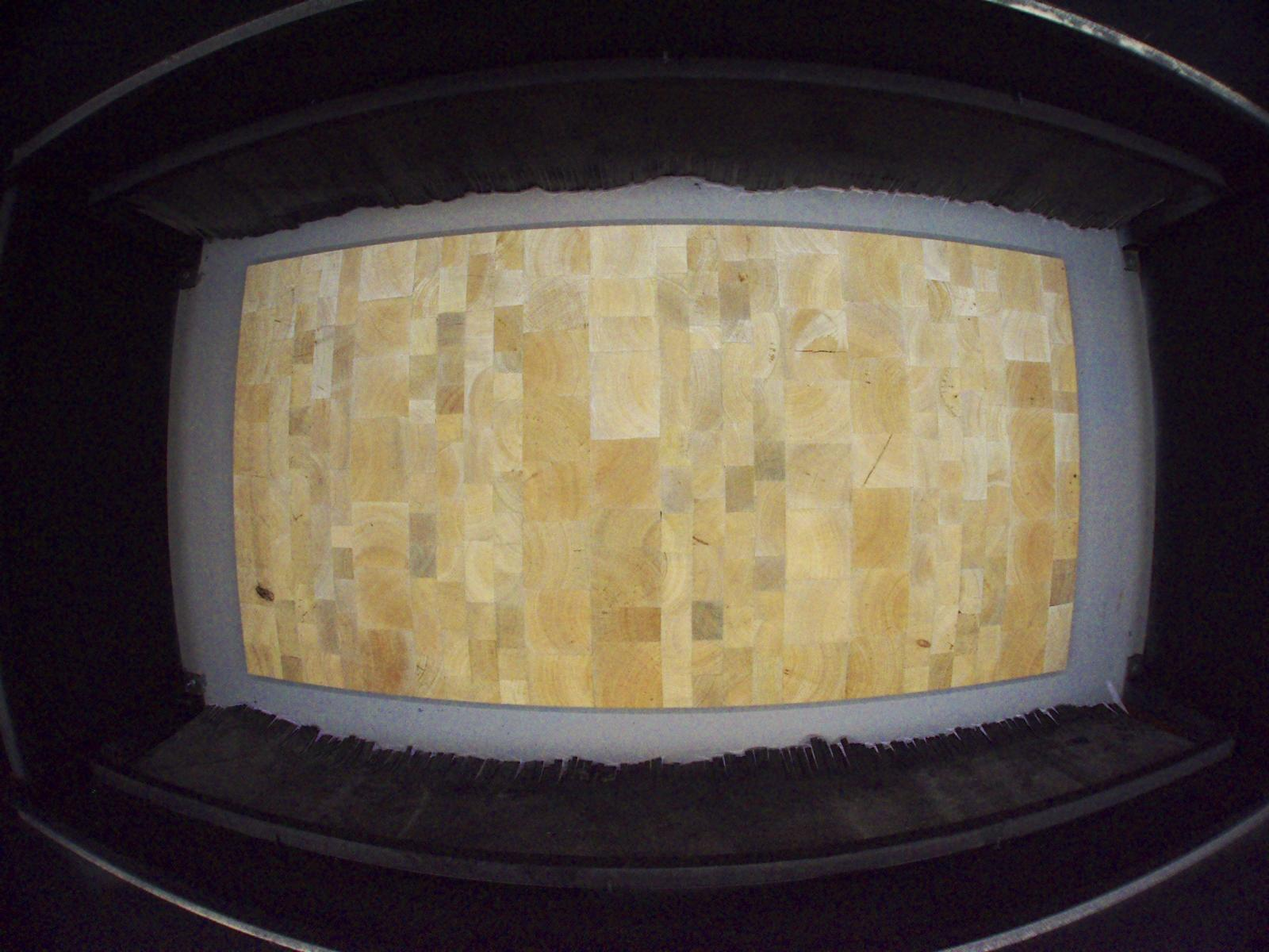nudillo: (254, 583, 277, 603)
